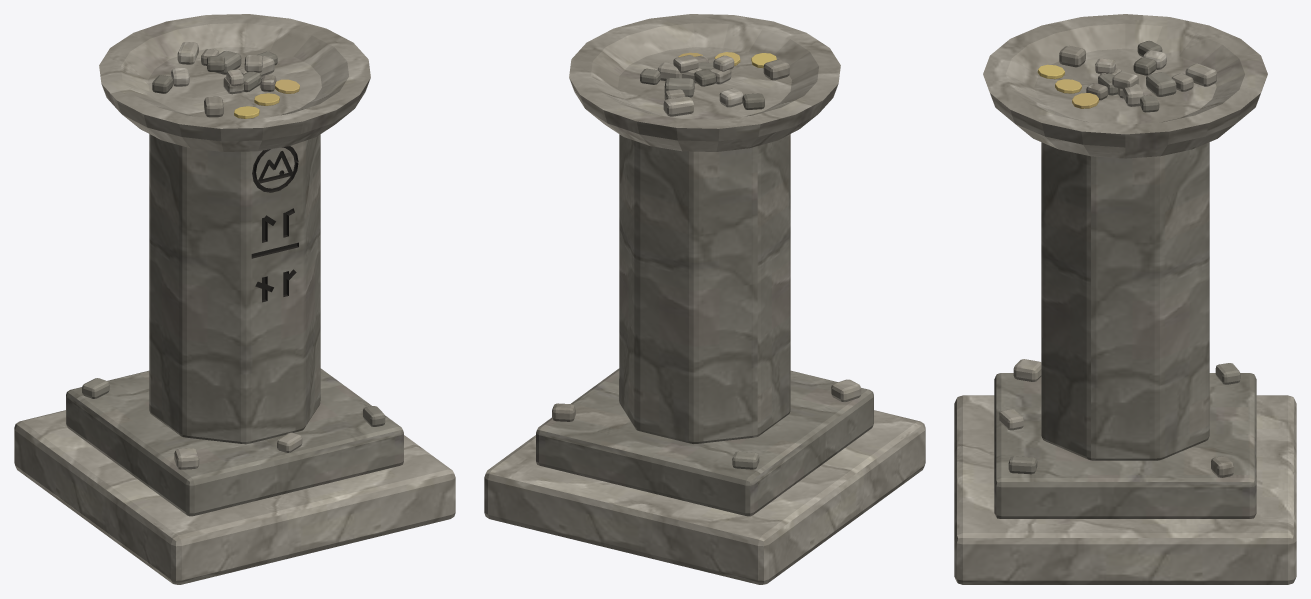
Rendered from qb_token_pillar.glb.
3 views of the same model, side by side, from view 1: azimuth 30°, elevation 25°; view 2: azimuth 150°, elevation 25°; view 3: azimuth 270°, elevation 25° (orthographic). The views are drawn at different scales.
Parts seen in each view (by area): view 1: model; view 2: model; view 3: model.
Part boxes in pixels (bbox=[...]): model: bbox=[14, 14, 455, 584]; model: bbox=[484, 14, 925, 584]; model: bbox=[954, 14, 1296, 584].
Bounding box in the file's own units: 0.6 × 0.8718 × 0.6.
Materials: 7 (3 with a texture image).
